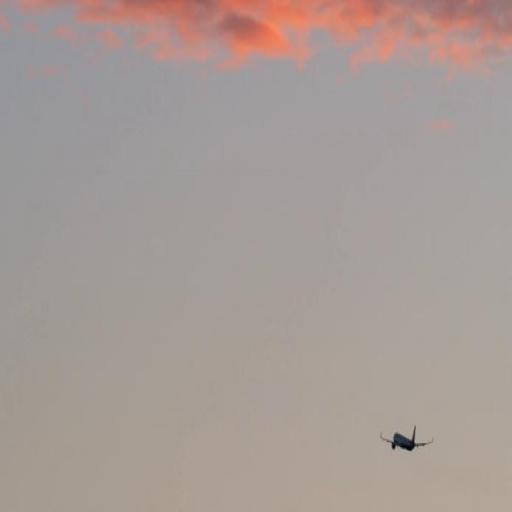aircraft: (377, 417, 435, 460)
